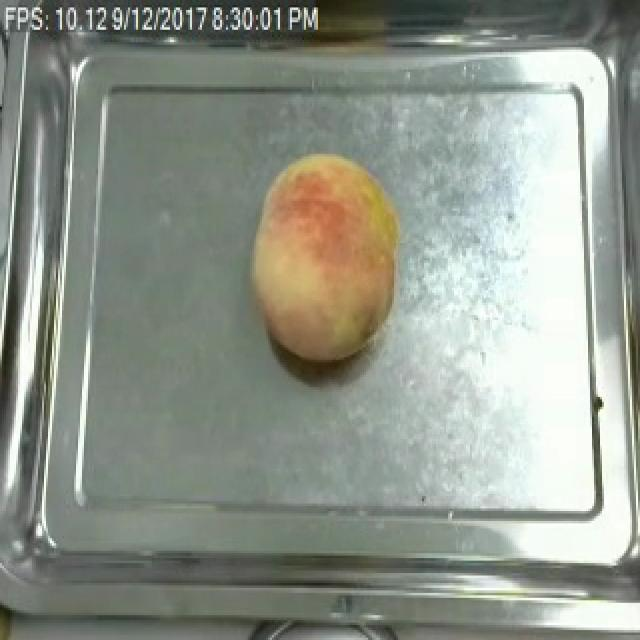Fruit: (240, 146, 408, 367)
